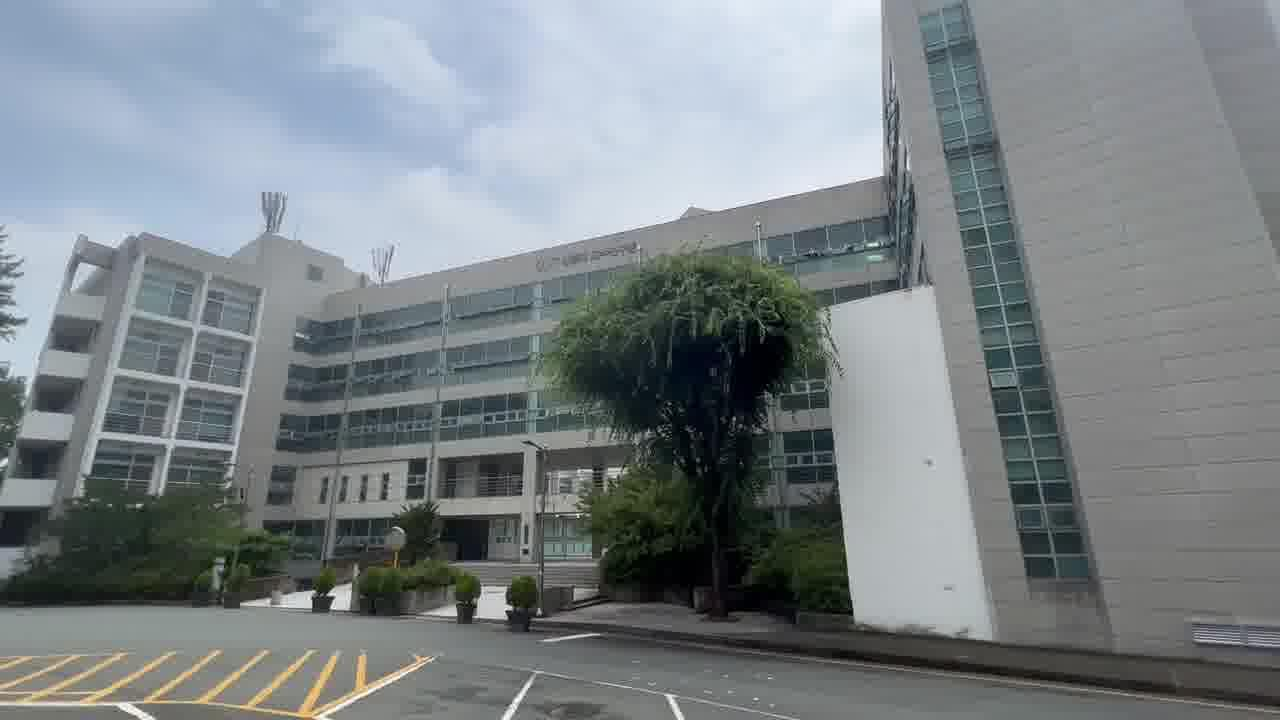building: (52, 203, 551, 511)
